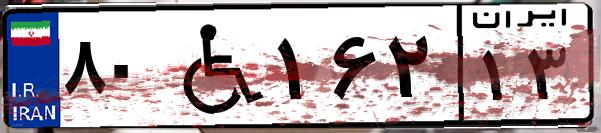0: (110, 28, 158, 98)
1: (270, 28, 330, 110), (475, 38, 525, 113)
2: (385, 28, 445, 110)
3: (525, 38, 570, 115)
6: (330, 28, 385, 110)
8: (57, 26, 110, 100)
ژ (معلولین و جانبازان): (158, 12, 270, 120)
